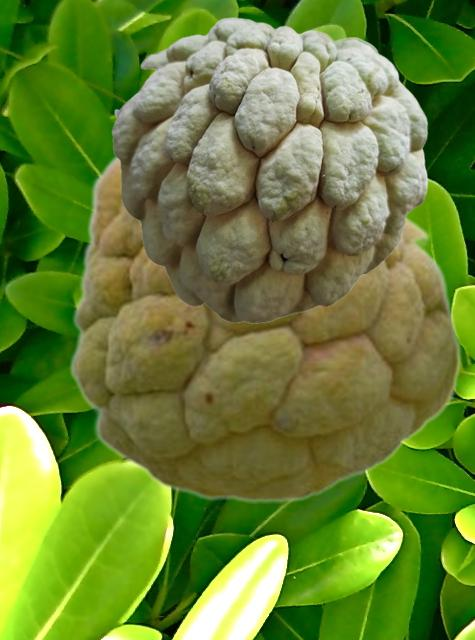atis: (68, 153, 460, 502), (111, 17, 427, 322)
